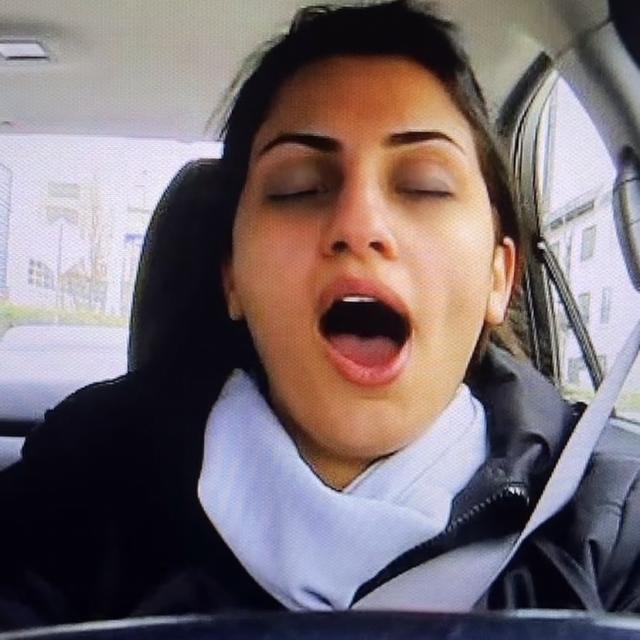open-mouth: (314, 274, 419, 394)
